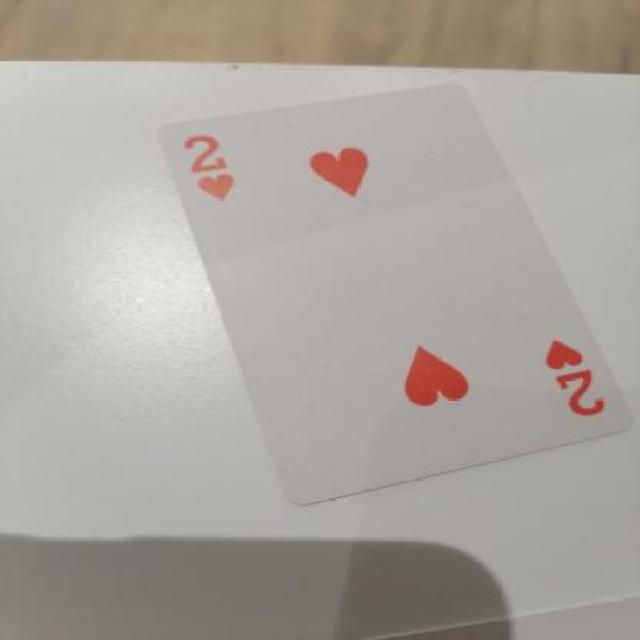2H: (508, 322, 630, 428), (163, 118, 259, 218)
